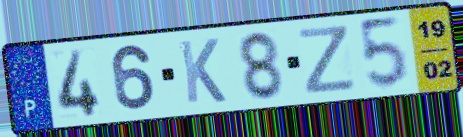4: (54, 47, 103, 119)
5: (356, 12, 412, 93)
6: (109, 43, 158, 114)
8: (236, 29, 285, 102)
K: (176, 36, 229, 106)
Z: (296, 22, 358, 97)
